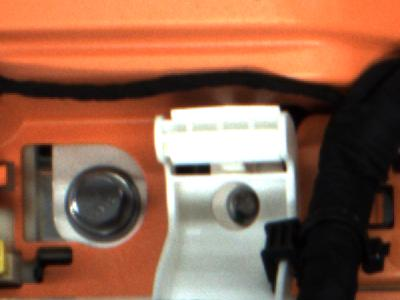nut_b: (60, 158, 147, 246)
